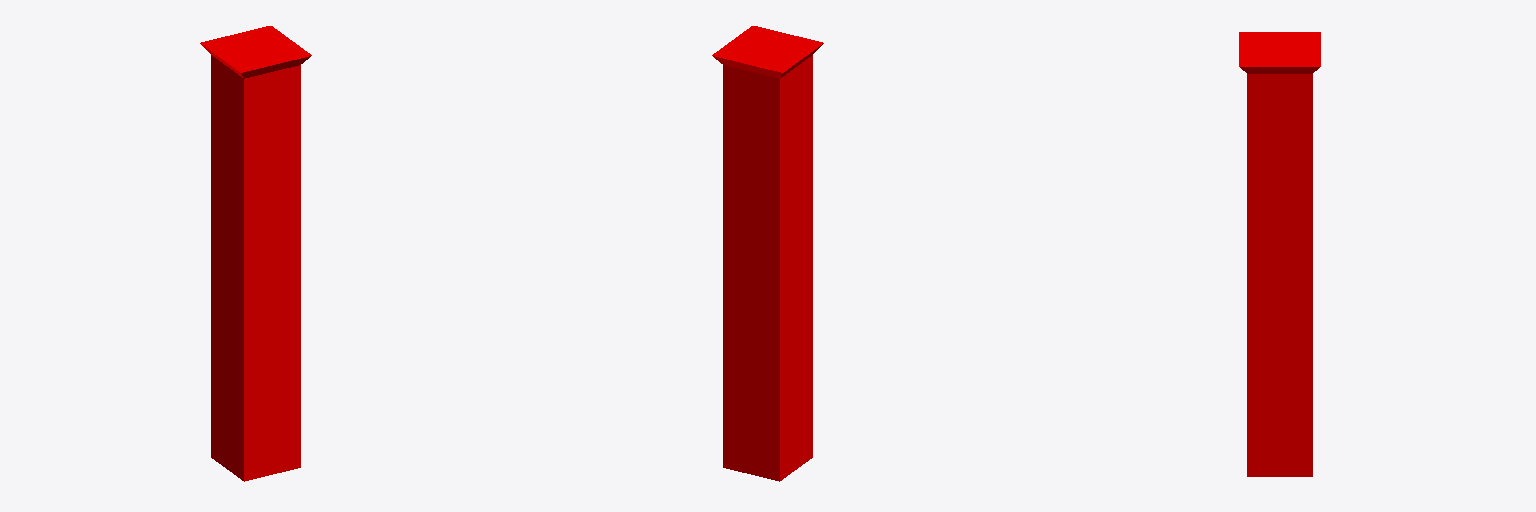
Rendered from Pillar.obj.
3 renders of one model, left to right at view 1: azimuth 30°, elevation 25°; view 2: azimuth 150°, elevation 25°; view 3: azimuth 270°, elevation 25°, orthographic.
Parts seen in each view (by area): view 1: Pillar1_Cube.063; view 2: Pillar1_Cube.063; view 3: Pillar1_Cube.063.
Part boxes in pixels (x1,y1,x2,y2): Pillar1_Cube.063: (200,26,311,481); Pillar1_Cube.063: (712,26,823,481); Pillar1_Cube.063: (1239,32,1320,476).
Size of the model in its own units: 0.1897 by 1.05 by 0.1897.